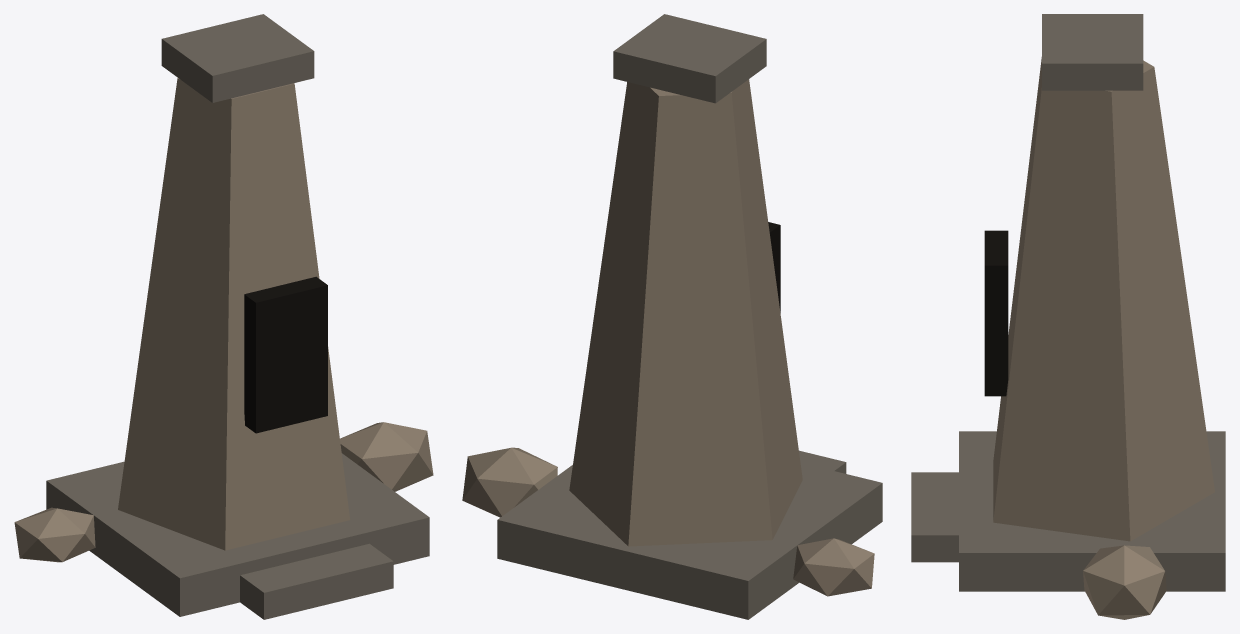
File: tambotoco_huaca_lod1.glb
The picture shows the model from 3 angles, left to right: view 1: azimuth 30°, elevation 25°; view 2: azimuth 150°, elevation 25°; view 3: azimuth 270°, elevation 25°; orthographic projection.
Parts seen in each view (by area): view 1: tambotoco_huaca; view 2: tambotoco_huaca; view 3: tambotoco_huaca.
Part boxes in pixels (<box>): tambotoco_huaca: <box>14,14,433,619</box>; tambotoco_huaca: <box>462,14,882,619</box>; tambotoco_huaca: <box>911,14,1225,619</box>.
Size of the model in its own units: 4.38 by 5.2 by 2.95.
